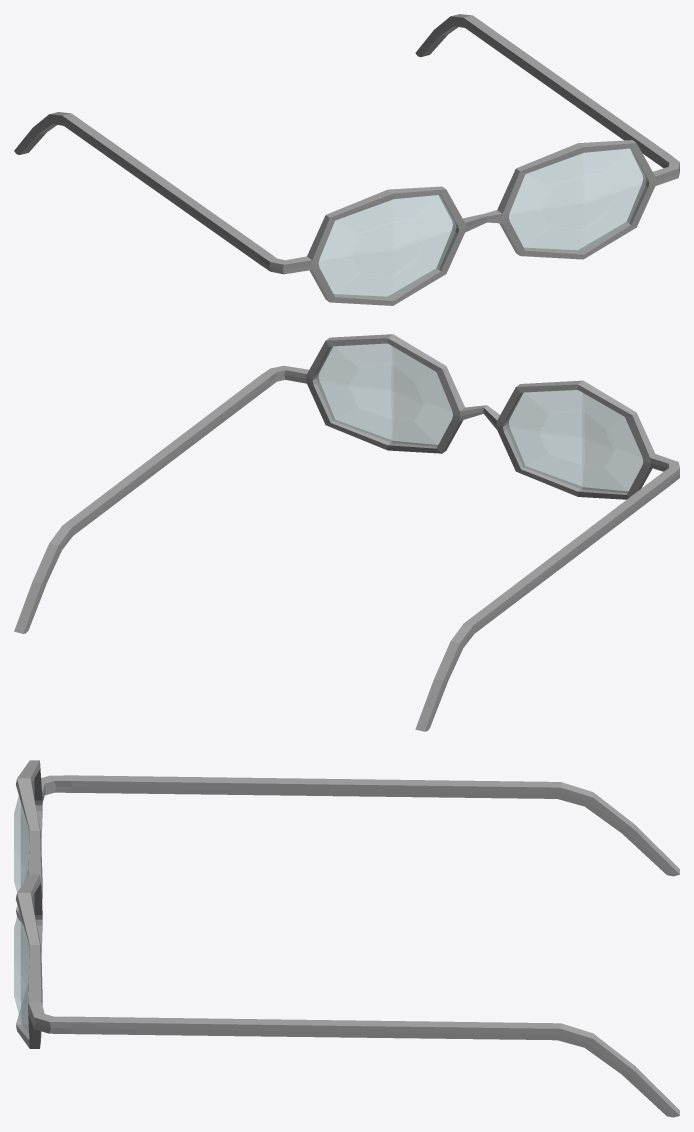
File: Glasses.fbx
3 renders of one model, top to bottom at view 1: azimuth 30°, elevation 25°; view 2: azimuth 150°, elevation 25°; view 3: azimuth 270°, elevation 25°, orthographic. The views are drawn at different scales.
Parts seen in each view (by area): view 1: pCube1, pCube2, pCube3; view 2: pCube1, pCube2, pCube3; view 3: pCube1, pCube2, pCube3.
Part boxes in pixels (bbox=[...]): pCube1: bbox=[14, 14, 679, 305]; pCube2: bbox=[509, 148, 646, 252]; pCube3: bbox=[318, 195, 456, 298]; pCube1: bbox=[14, 334, 679, 731]; pCube2: bbox=[316, 343, 452, 446]; pCube3: bbox=[506, 390, 643, 492]; pCube1: bbox=[16, 760, 679, 1117]; pCube2: bbox=[14, 893, 34, 1032]; pCube3: bbox=[14, 779, 34, 891].
Bounding box in the file's own units: 3.83 × 1.15 × 4.36.
